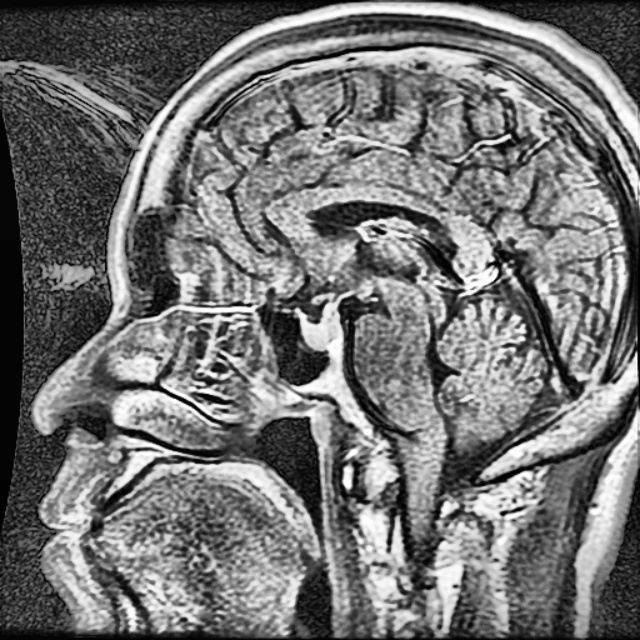Pituitary: (299, 315, 342, 352)
